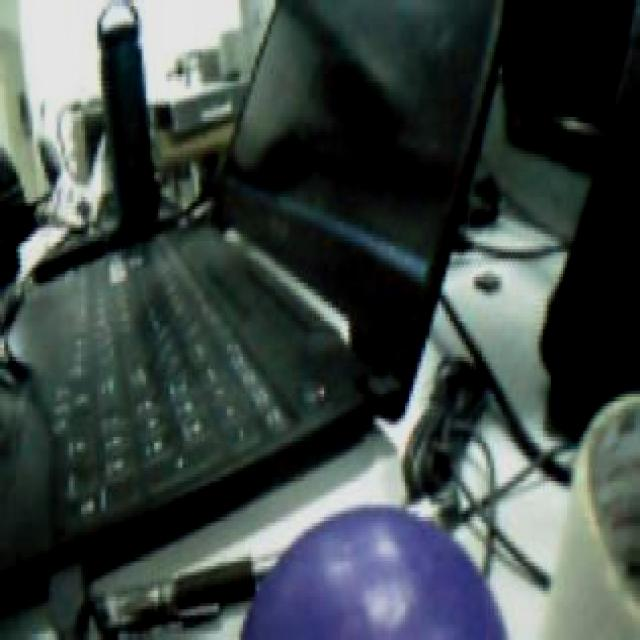BallPurple: (238, 504, 508, 640)
